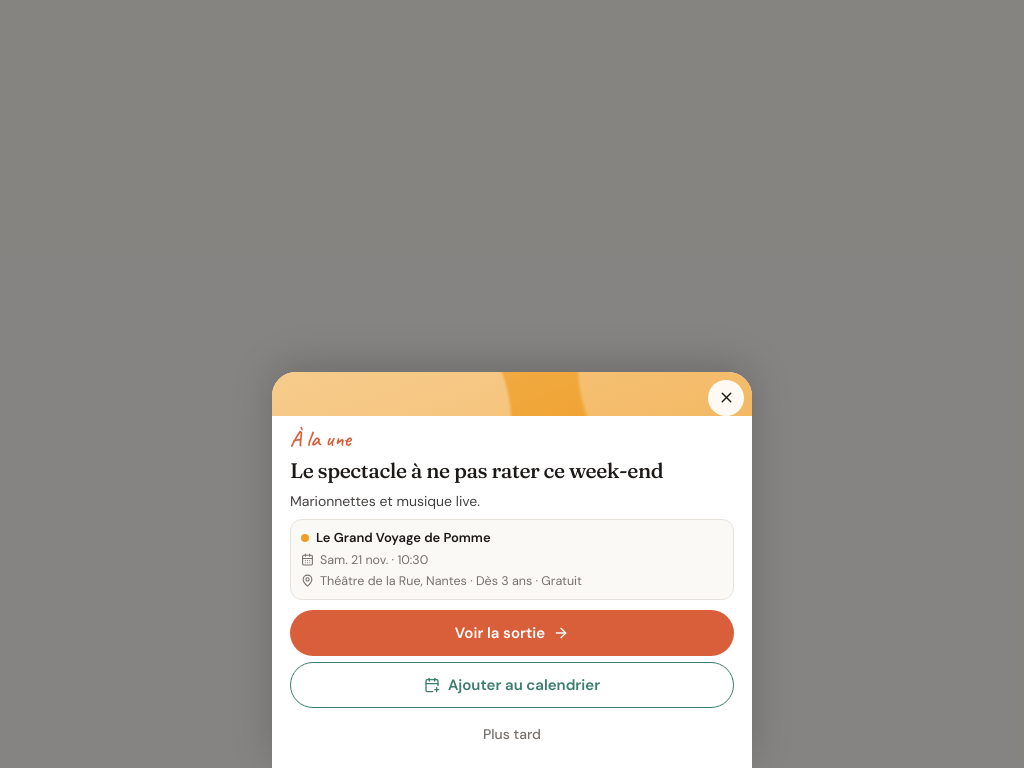
Test: EventSpotlightSheet › au rappel, une sortie déjà ajoutée affiche « Déjà dans ton agenda »
Later steps or results of the test are not shown.
What coordinates should you click on to do the following:
click the button "Ajouter au calendrier"
I would click on:
 (512, 685)
Its box is x1=290 y1=662 x2=734 y2=708.
Wait 1600 ms
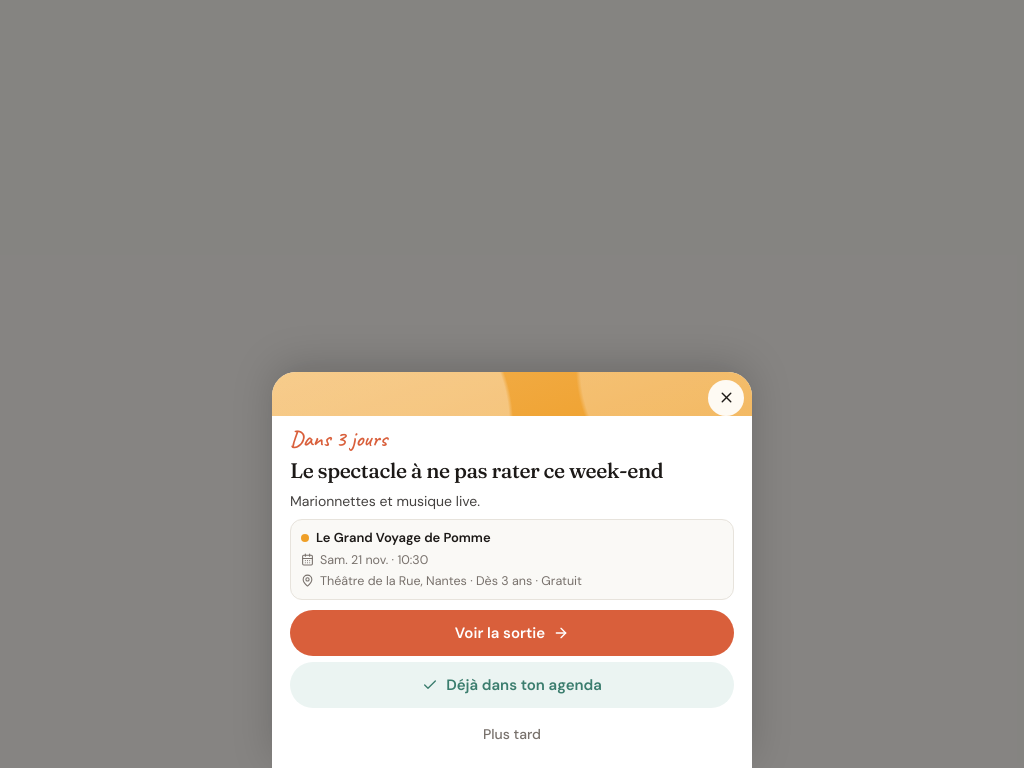
Check: the dialog shows "Déjà dans ton agenda", box x1=290 y1=662 x2=734 y2=708
Check: the dialog shows "Dans 3 jours", box x1=290 y1=425 x2=387 y2=453
